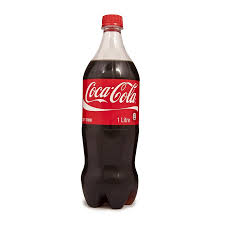HDPE Cap: (101, 14, 123, 27)
PET Bottle: (81, 14, 140, 210)
PVC Label: (82, 78, 140, 125)
